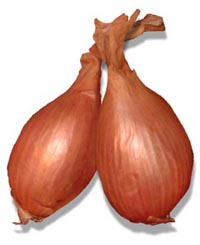onion: (91, 8, 195, 226), (5, 49, 102, 227)
